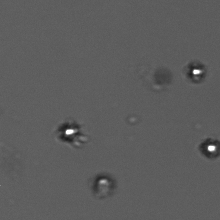Living Cell: (92, 175, 116, 199), (56, 121, 81, 142), (186, 60, 208, 82), (198, 137, 218, 159)
